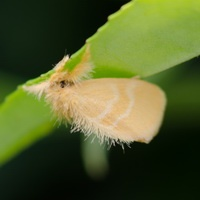insect: (22, 44, 165, 145)
